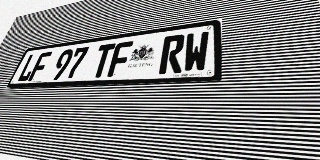7: (64, 47, 89, 79)
9: (50, 48, 75, 80)
F: (107, 41, 133, 77), (28, 51, 52, 81)
L: (16, 53, 40, 82)
R: (159, 34, 185, 74)
T: (90, 43, 116, 78)
W: (182, 31, 209, 73)
